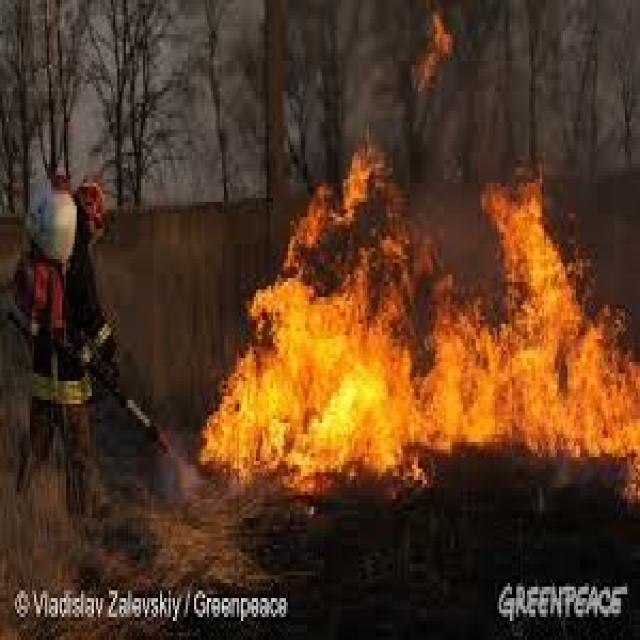Fire: (194, 127, 640, 497)
